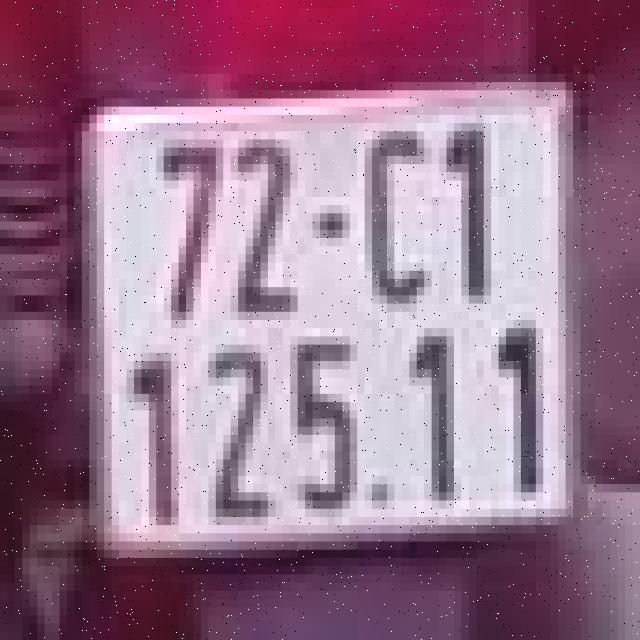1: (112, 332, 194, 546), (435, 103, 510, 324), (487, 299, 562, 496), (406, 320, 472, 517)
2: (194, 341, 290, 529), (230, 127, 298, 324)
5: (290, 320, 372, 533)
7: (149, 107, 238, 328)
C: (349, 119, 432, 308)
